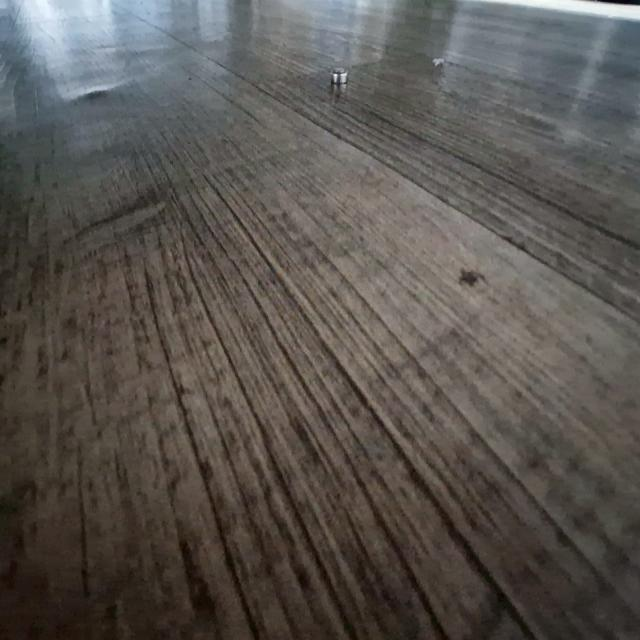battery: (329, 60, 351, 90)
